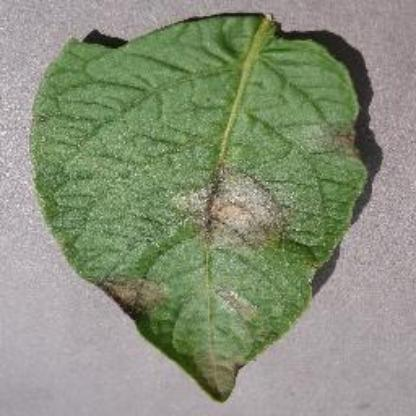Late-Blight: (28, 21, 372, 387)
